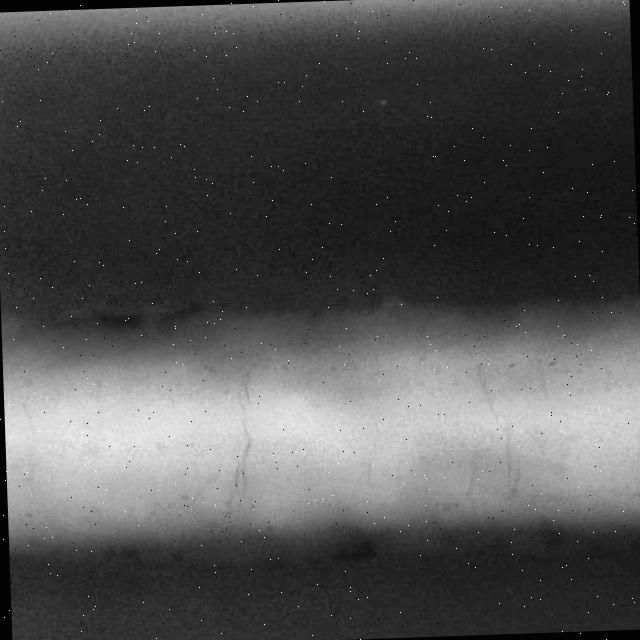Crack: (447, 342, 562, 516), (204, 342, 282, 524)
